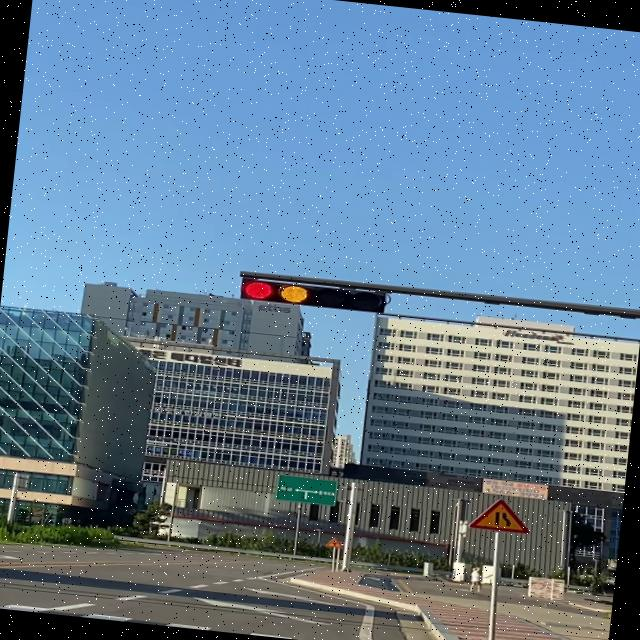yellow_light: (240, 278, 386, 312)
